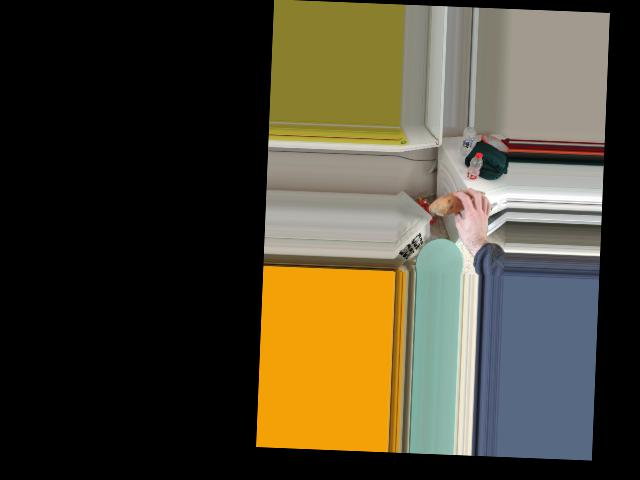sweet_potato: (430, 188, 488, 216)
